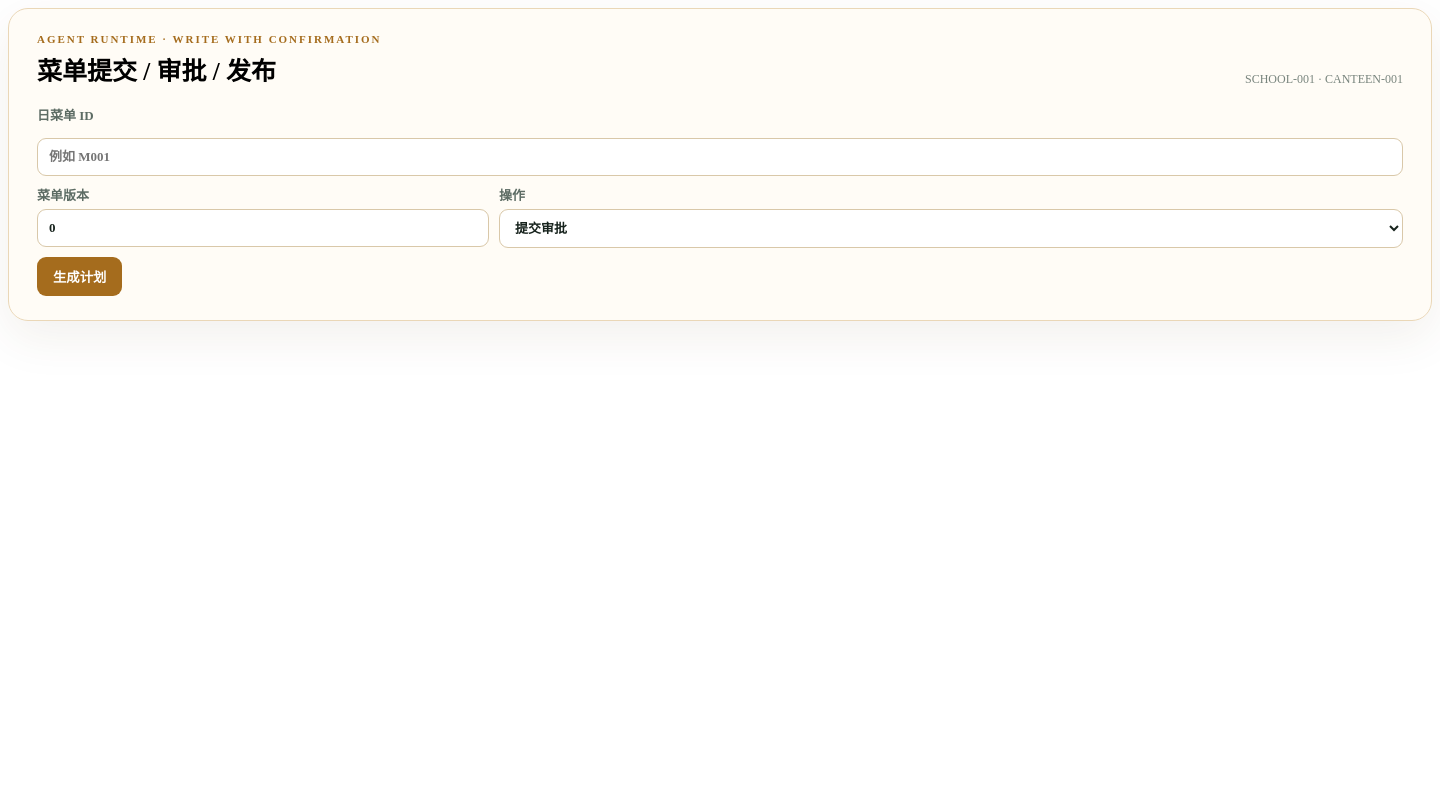
Scenario: AgentMenuApprovalWorkspace › shows a run confirmation and sends the expected version when confirming
The image size is (1440, 810).
Type "M001" into the field with id "agent-menu-id" at (720, 157), box x1=37 y1=138 x2=1403 y2=176
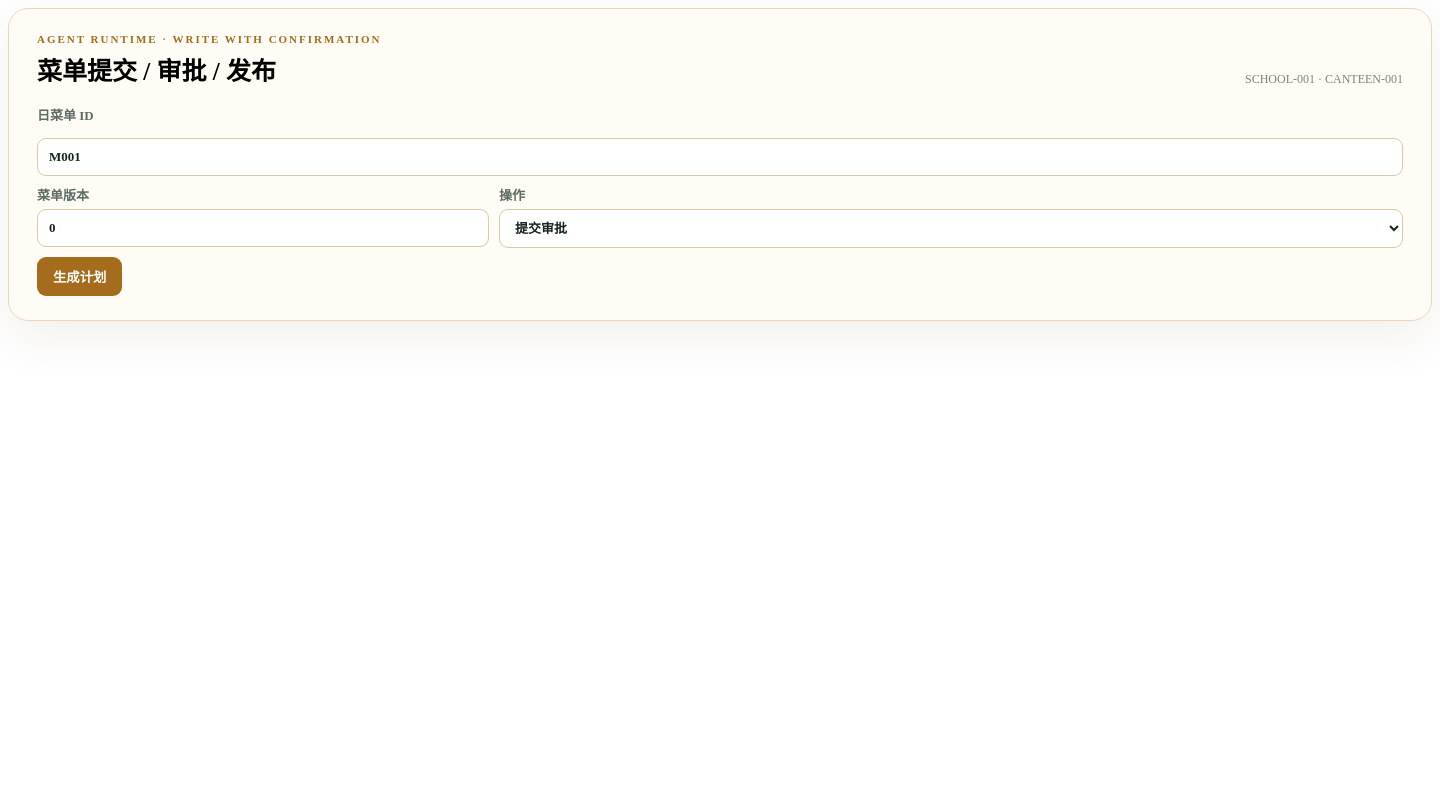
Submit the form, box x1=37 y1=105 x2=1403 y2=296
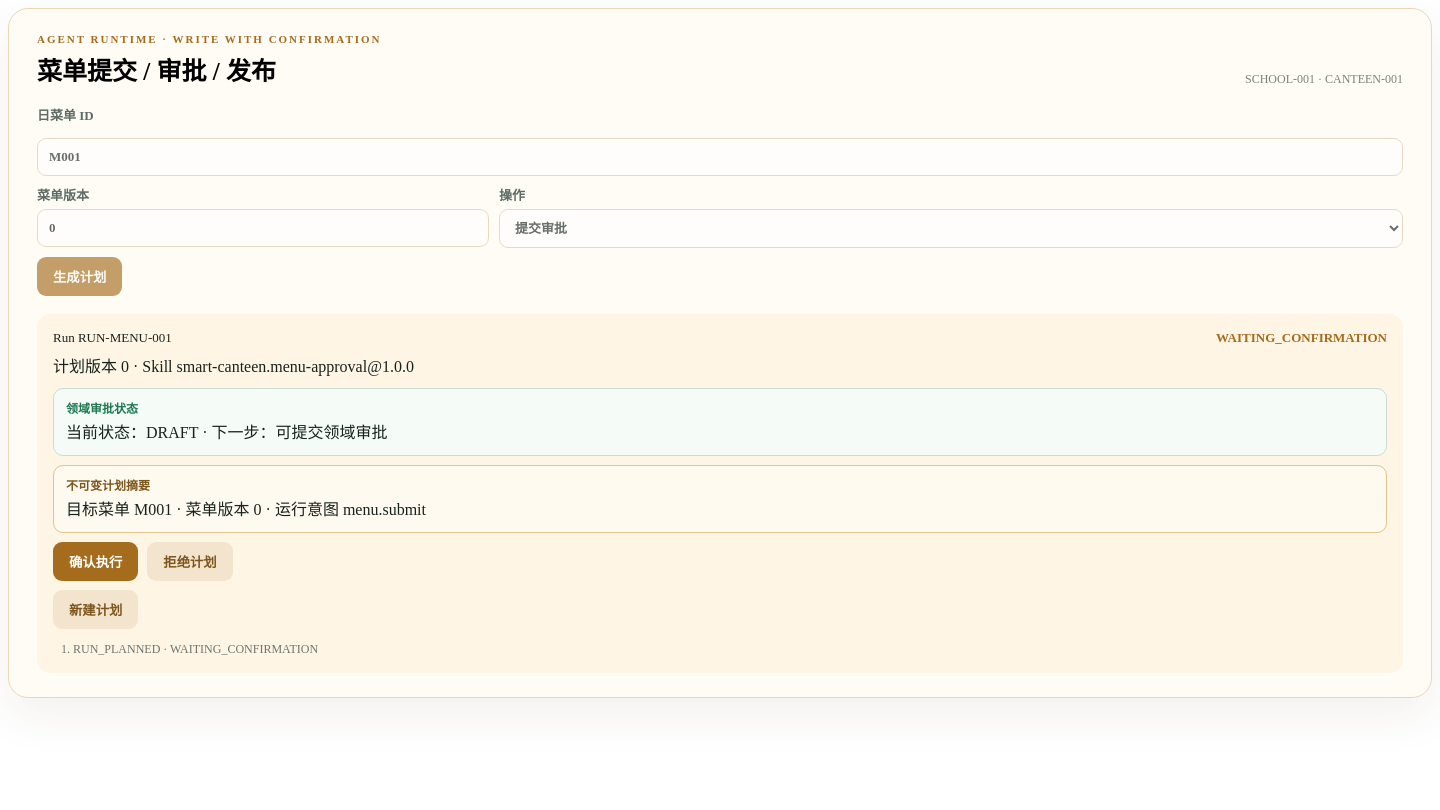
Expected: the element with test id "agent-menu-run" shows "WAITING_CONFIRMATION", x1=1216 y1=330 x2=1387 y2=345
Expected: the element with test id "agent-menu-domain-state" shows "当前状态：DRAFT · 下一步：可提交领域审批", x1=66 y1=424 x2=388 y2=441
Expected: the element with test id "agent-menu-plan-summary" shows "目标菜单 M001 · 菜单版本 0", x1=66 y1=501 x2=426 y2=518
Click the submit button at (96, 562), box x1=53 y1=542 x2=138 y2=581
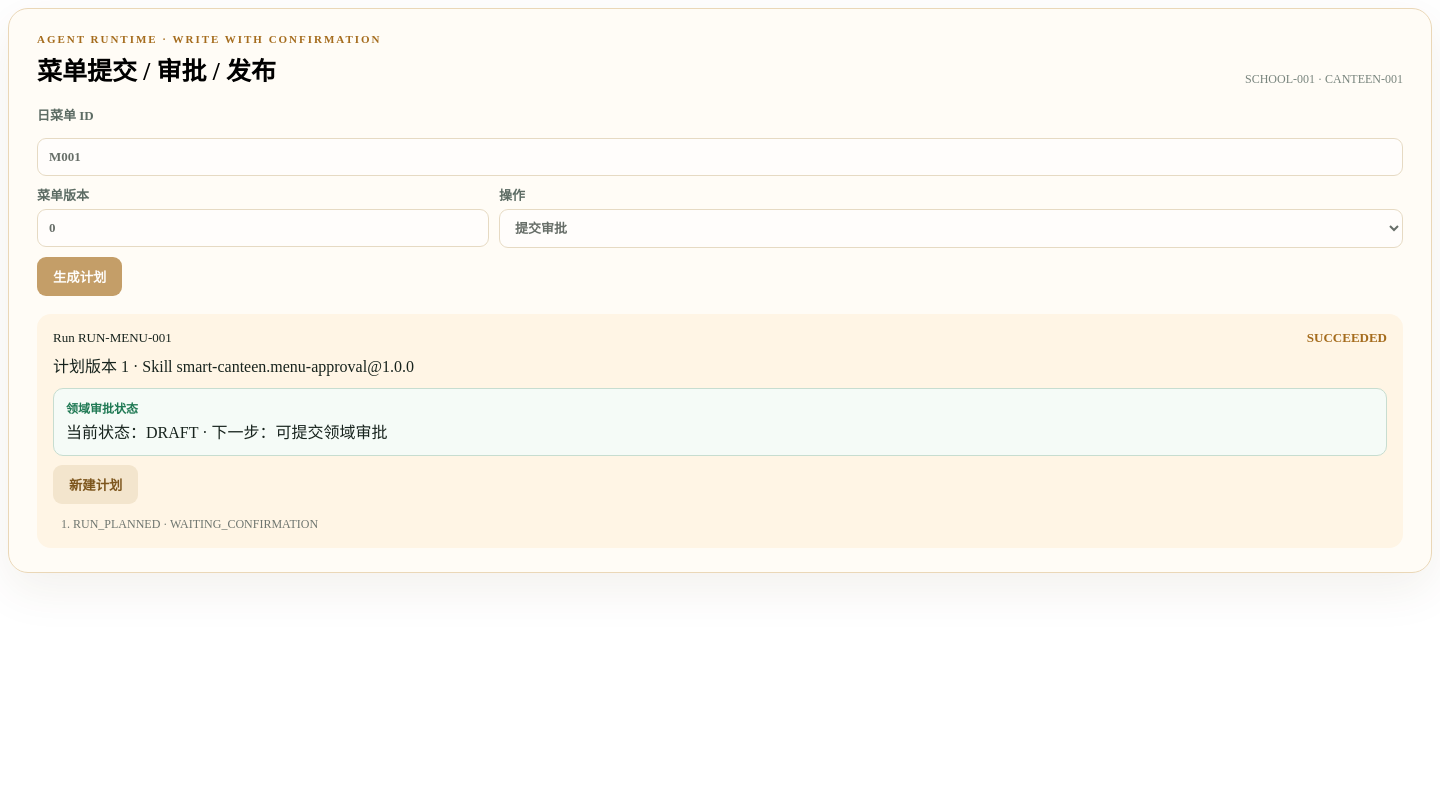
Expected: the text "SUCCEEDED" is shown, x1=1307 y1=330 x2=1387 y2=346
